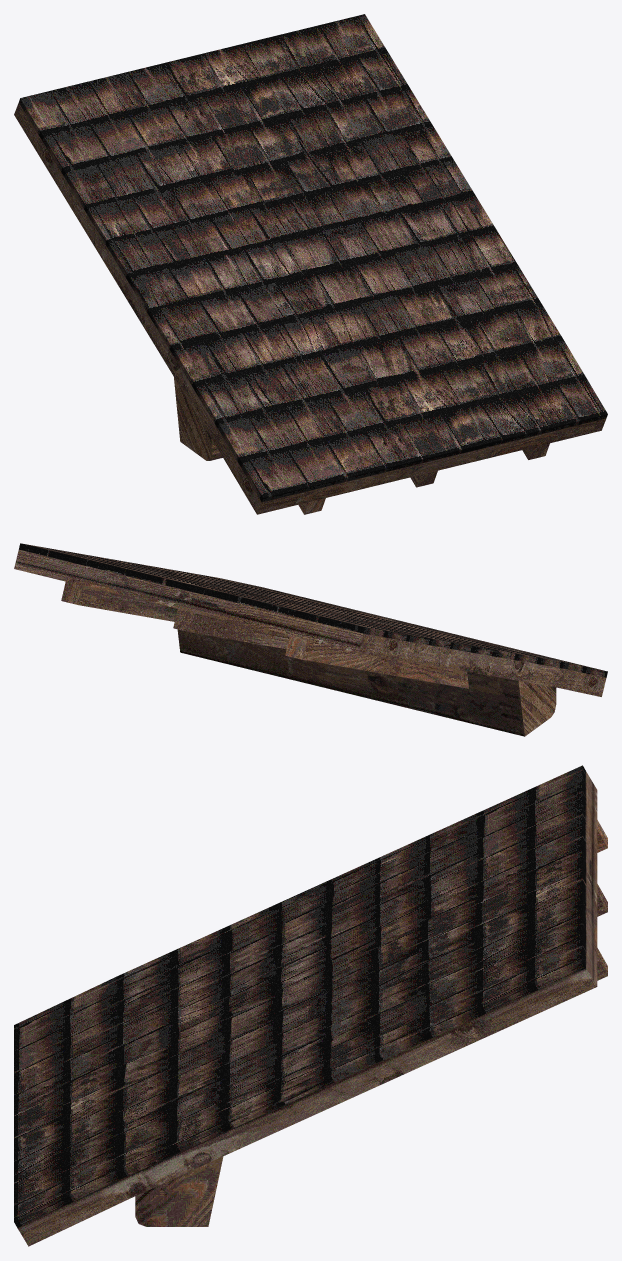
The model's file is roof-botM.glb.
3 renders of one model, top to bottom at view 1: azimuth 30°, elevation 25°; view 2: azimuth 150°, elevation 25°; view 3: azimuth 270°, elevation 25°, orthographic. The views are drawn at different scales.
Visible parts, largest first — view 1: roof-botM.001; view 2: roof-botM.001; view 3: roof-botM.001.
Boxes of the visible parts, x1,y1,x2,y2 form: roof-botM.001: [14, 14, 607, 514]; roof-botM.001: [14, 543, 607, 736]; roof-botM.001: [14, 765, 607, 1246].
Bounding box in the file's own units: 2 × 1.44 × 2.55.
Materials: 2 (2 with a texture image).
